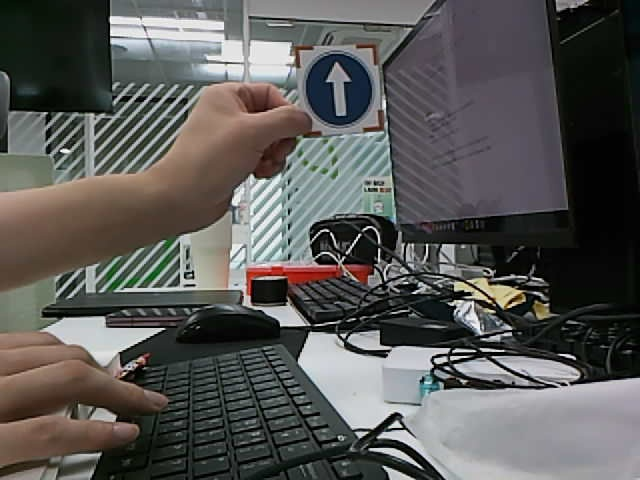go: (303, 52, 374, 128)
